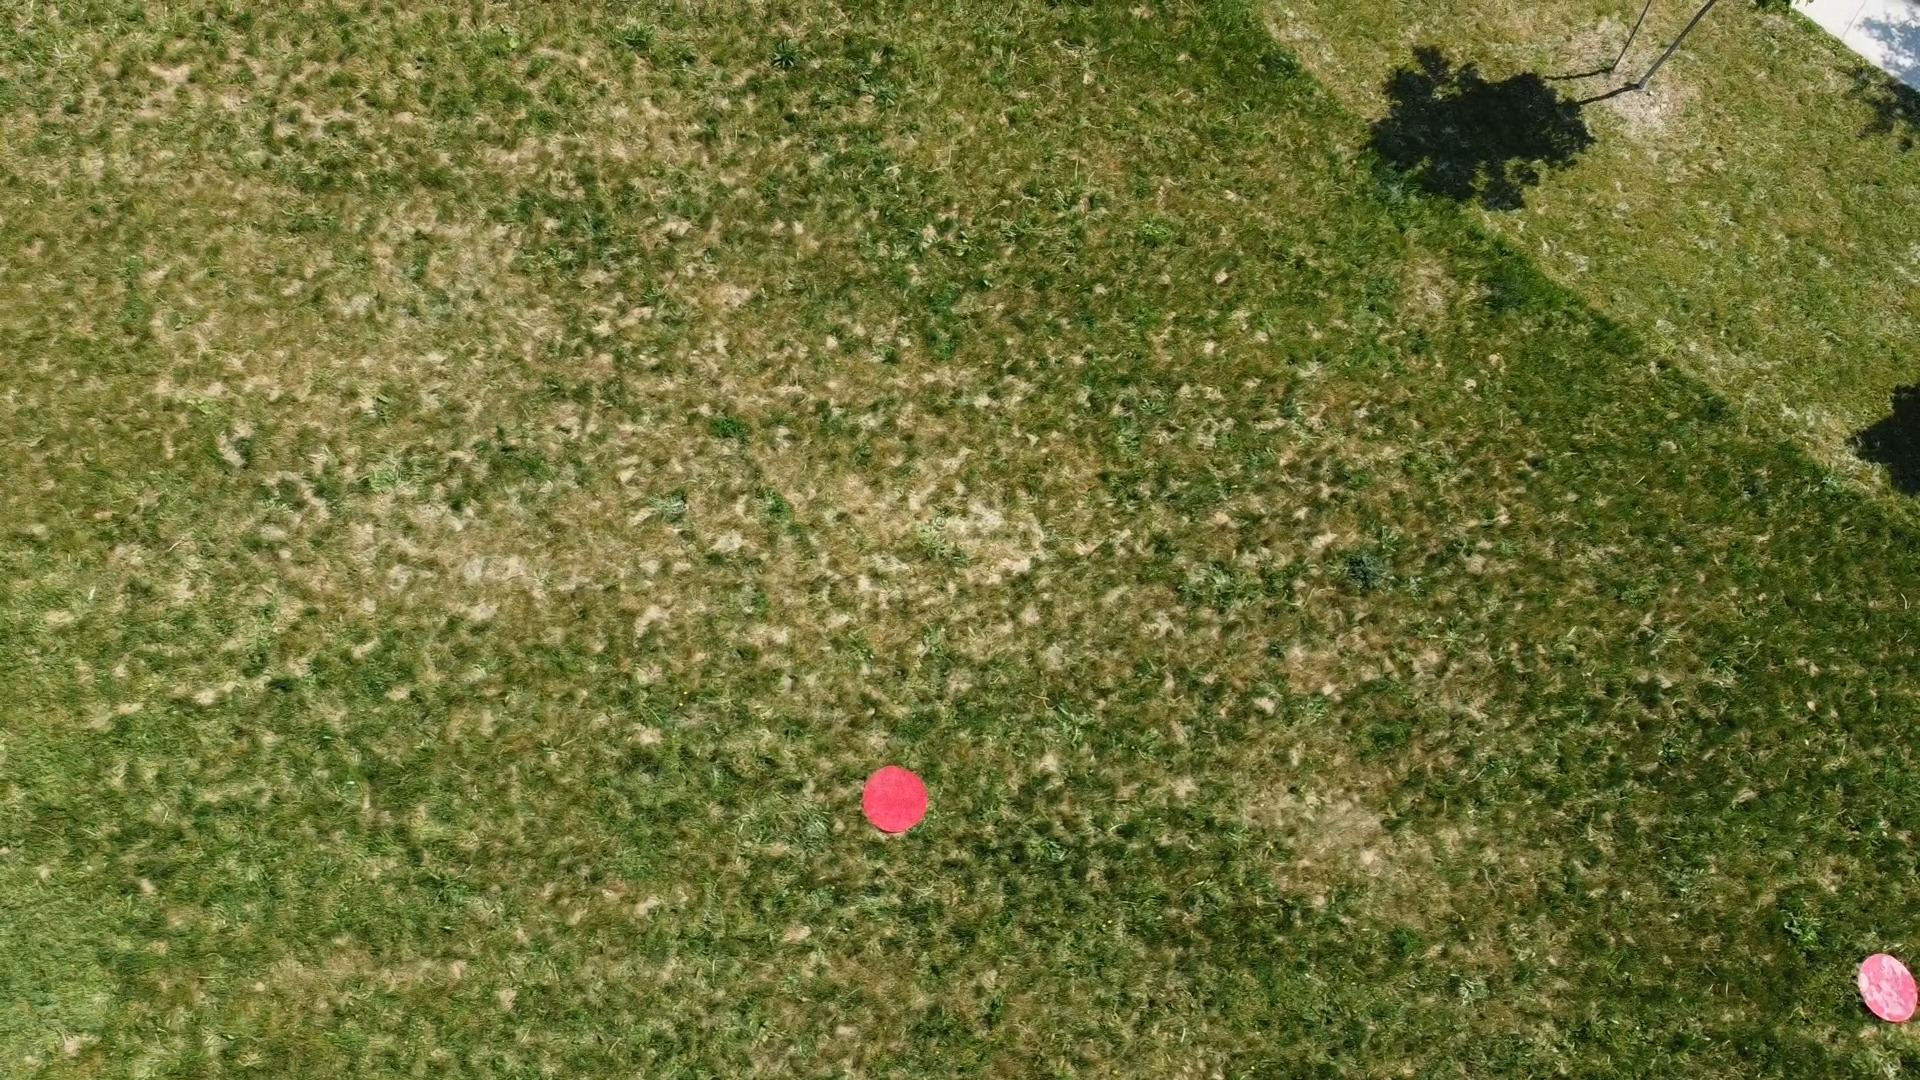Red: (858, 764, 932, 836), (1855, 951, 1920, 1026)
